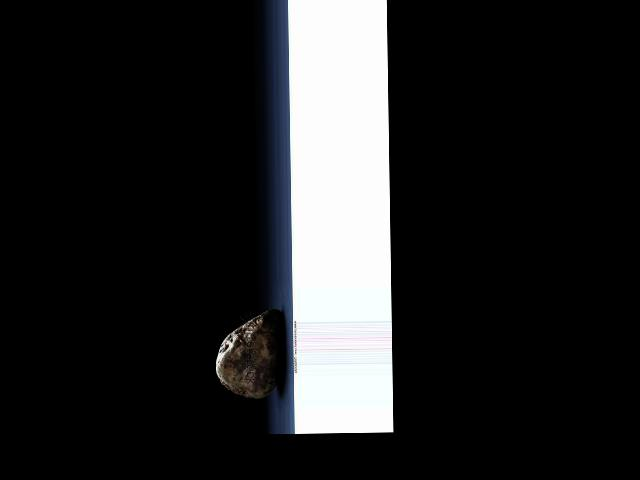beet: (215, 310, 282, 400)
